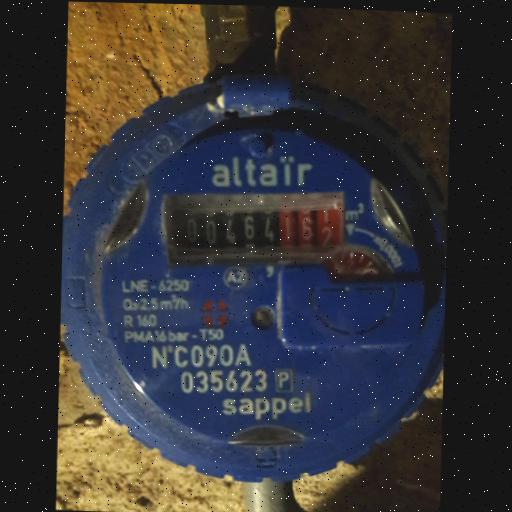0: (200, 212, 222, 249), (181, 213, 202, 250)
1: (278, 209, 300, 247)
2: (314, 209, 340, 247)
4: (257, 210, 281, 246), (218, 212, 241, 249)
6: (296, 209, 318, 247), (239, 211, 261, 248)
border_water_meter_number: (163, 184, 347, 273)
